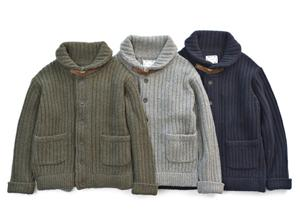S_cardigan sweater: (171, 26, 293, 197), (102, 35, 223, 200), (20, 43, 141, 192)
